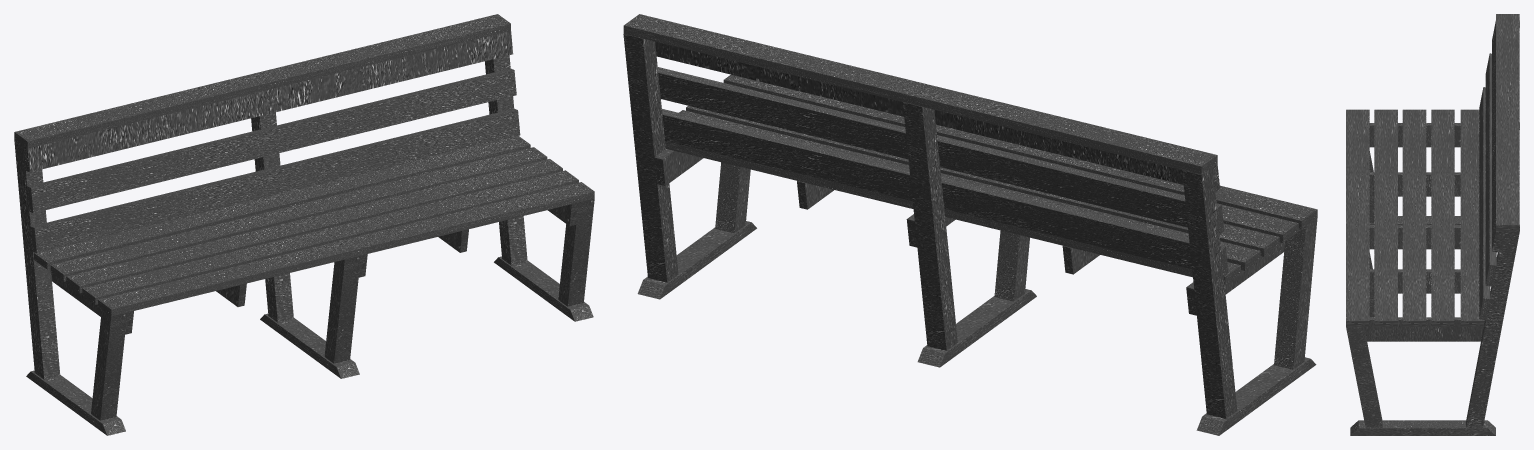
Rendered from banca.glb.
3 views of the same model, side by side, from view 1: azimuth 30°, elevation 25°; view 2: azimuth 150°, elevation 25°; view 3: azimuth 270°, elevation 25° (orthographic). The views are drawn at different scales.
Parts seen in each view (by area): view 1: /Generic; view 2: /Generic; view 3: /Generic.
Part boxes in pixels (x1,y1,x2,y2): /Generic: (14,14,594,435); /Generic: (623,14,1317,435); /Generic: (1346,14,1519,435).
Bounding box in the file's own units: 71.3 × 32.85 × 24.65.
1 material, 1 textured.
